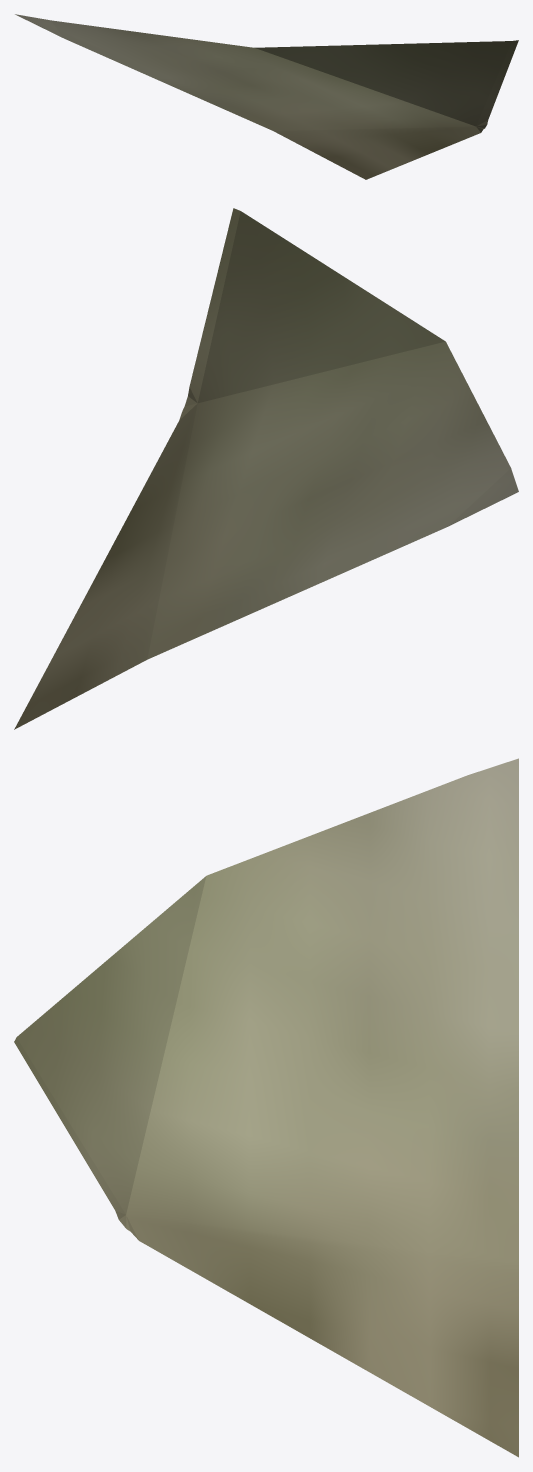
3 renders of one model, top to bottom at view 1: azimuth 30°, elevation 25°; view 2: azimuth 150°, elevation 25°; view 3: azimuth 270°, elevation 25°, orthographic. The views are drawn at different scales.
Size of the model in its own units: 0.1139 by 0.0778 by 0.0857.
Materials: 1 (1 with a texture image).
